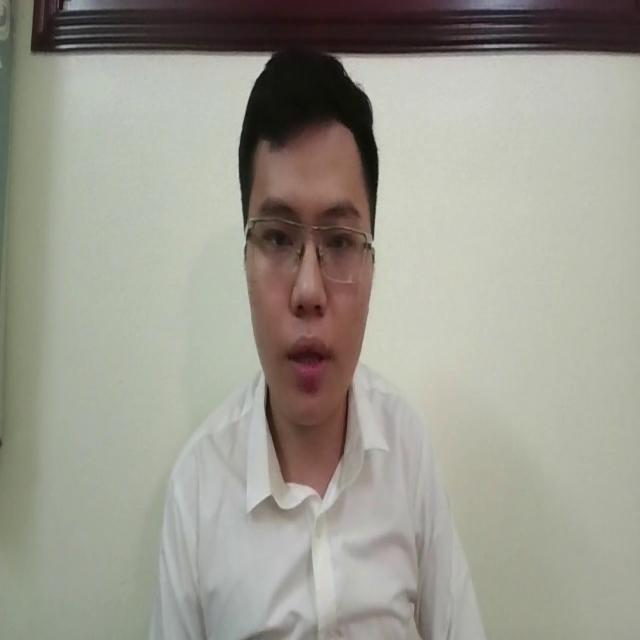student: (145, 28, 477, 640)
